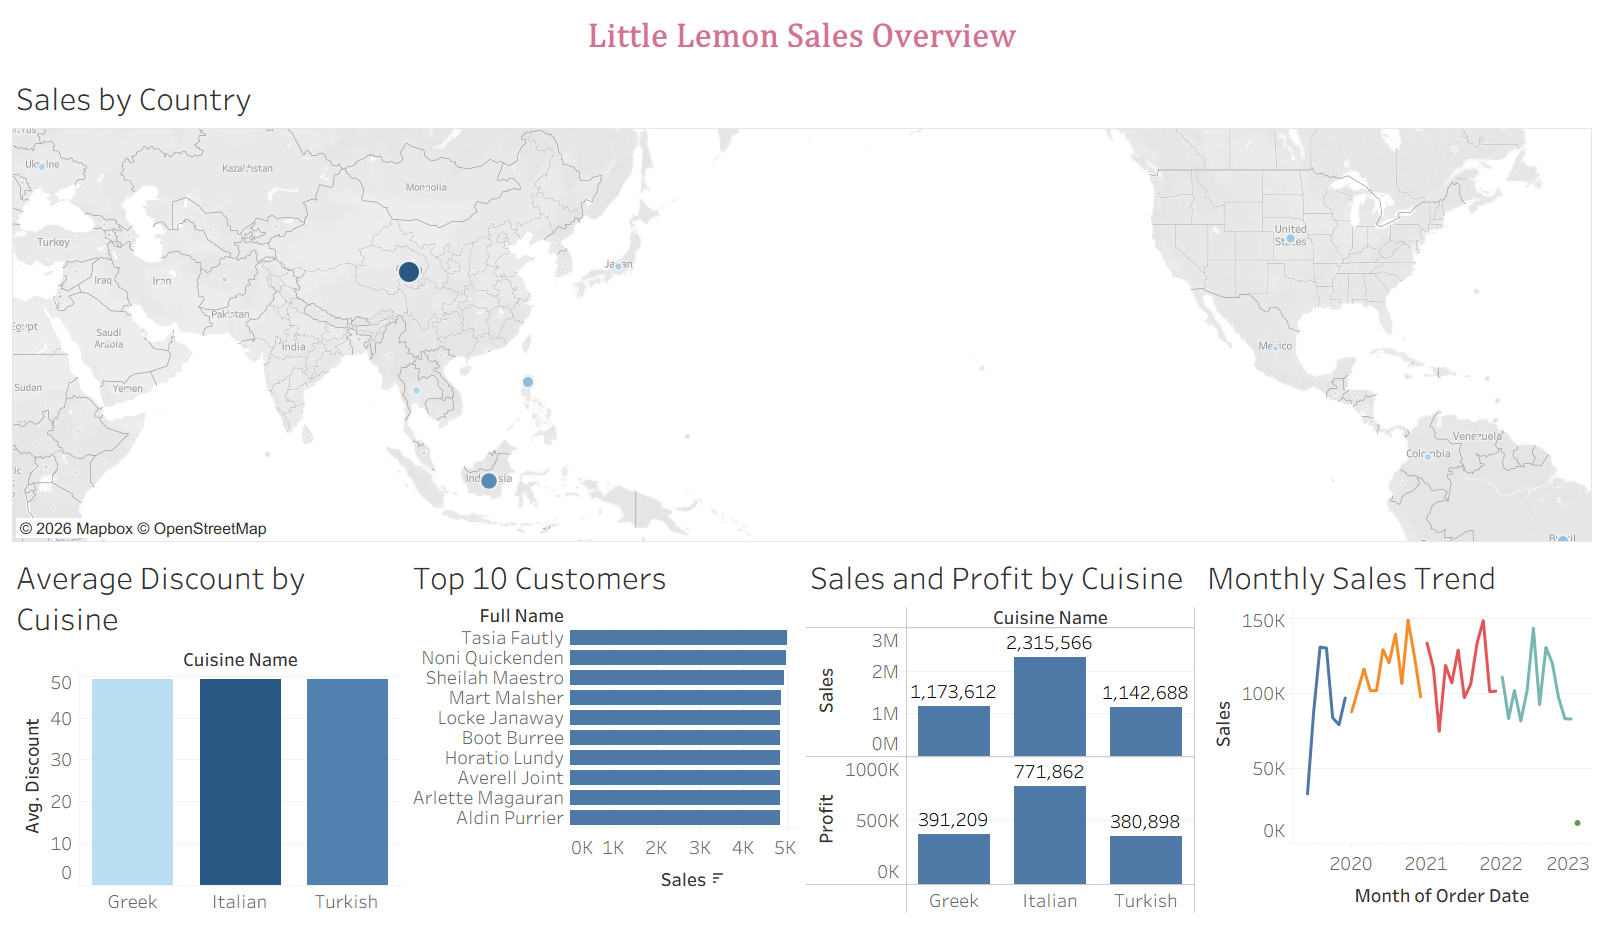

This screenshot's page, from the dashboard's own definition file:
{"tool":"tableau","page":{"name":"Sales Dashboard","canvas":[1000,1000],"units":"permille","ordinal":0},"visuals":[{"type":"text","box":[5,8.6,990,63.7]},{"type":"worksheet","title":"Sales by Country","mark":"Automatic","box":[5,72.4,990,517.3]},{"type":"worksheet","title":"Average Discount by Cuisine","mark":"Automatic","rows":["Discount"],"cols":["CuisineName"],"box":[5,589.6,247.5,401.7]},{"type":"worksheet","title":"Top 10 Customers","mark":"Automatic","rows":["FullName"],"cols":["Sales"],"box":[252.5,589.6,247.5,401.7]},{"type":"worksheet","title":"Sales and Profit by Cuisine","mark":"Automatic","rows":["Sales","Calculation_1257351389978624"],"cols":["CuisineName"],"box":[500,589.6,247.5,401.7]},{"type":"worksheet","title":"Monthly Sales Trend","mark":"Automatic","rows":["Sales"],"cols":["OrderDate"],"box":[747.5,589.6,247.5,401.7]}]}

Visuals, with their boxes on the dashboard's canvas, which has no fixed pixel size, in thousandths of its width and height (x1, y1, x2, y2). These are canvas units, not pixel positions in the 1604x926 screenshot, which may show the page scaled, cropped or inside an application window:
text: region(5, 9, 995, 72)
"Sales by Country" worksheet: region(5, 72, 995, 590)
"Average Discount by Cuisine" worksheet: region(5, 590, 252, 991)
"Top 10 Customers" worksheet: region(252, 590, 500, 991)
"Sales and Profit by Cuisine" worksheet: region(500, 590, 748, 991)
"Monthly Sales Trend" worksheet: region(748, 590, 995, 991)
